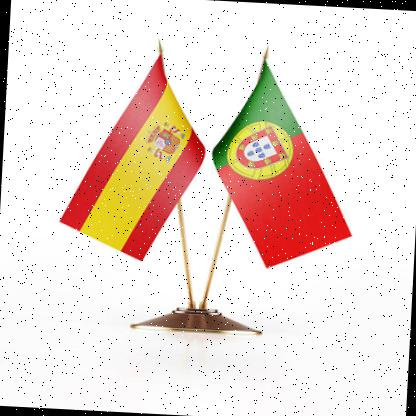es: (58, 46, 213, 267)
pt: (208, 55, 367, 275)
